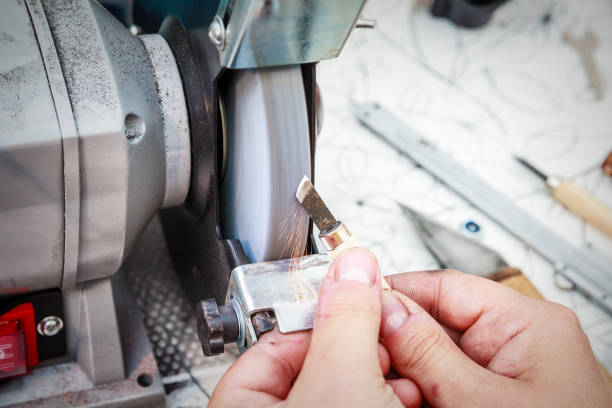knife: (293, 174, 338, 232)
